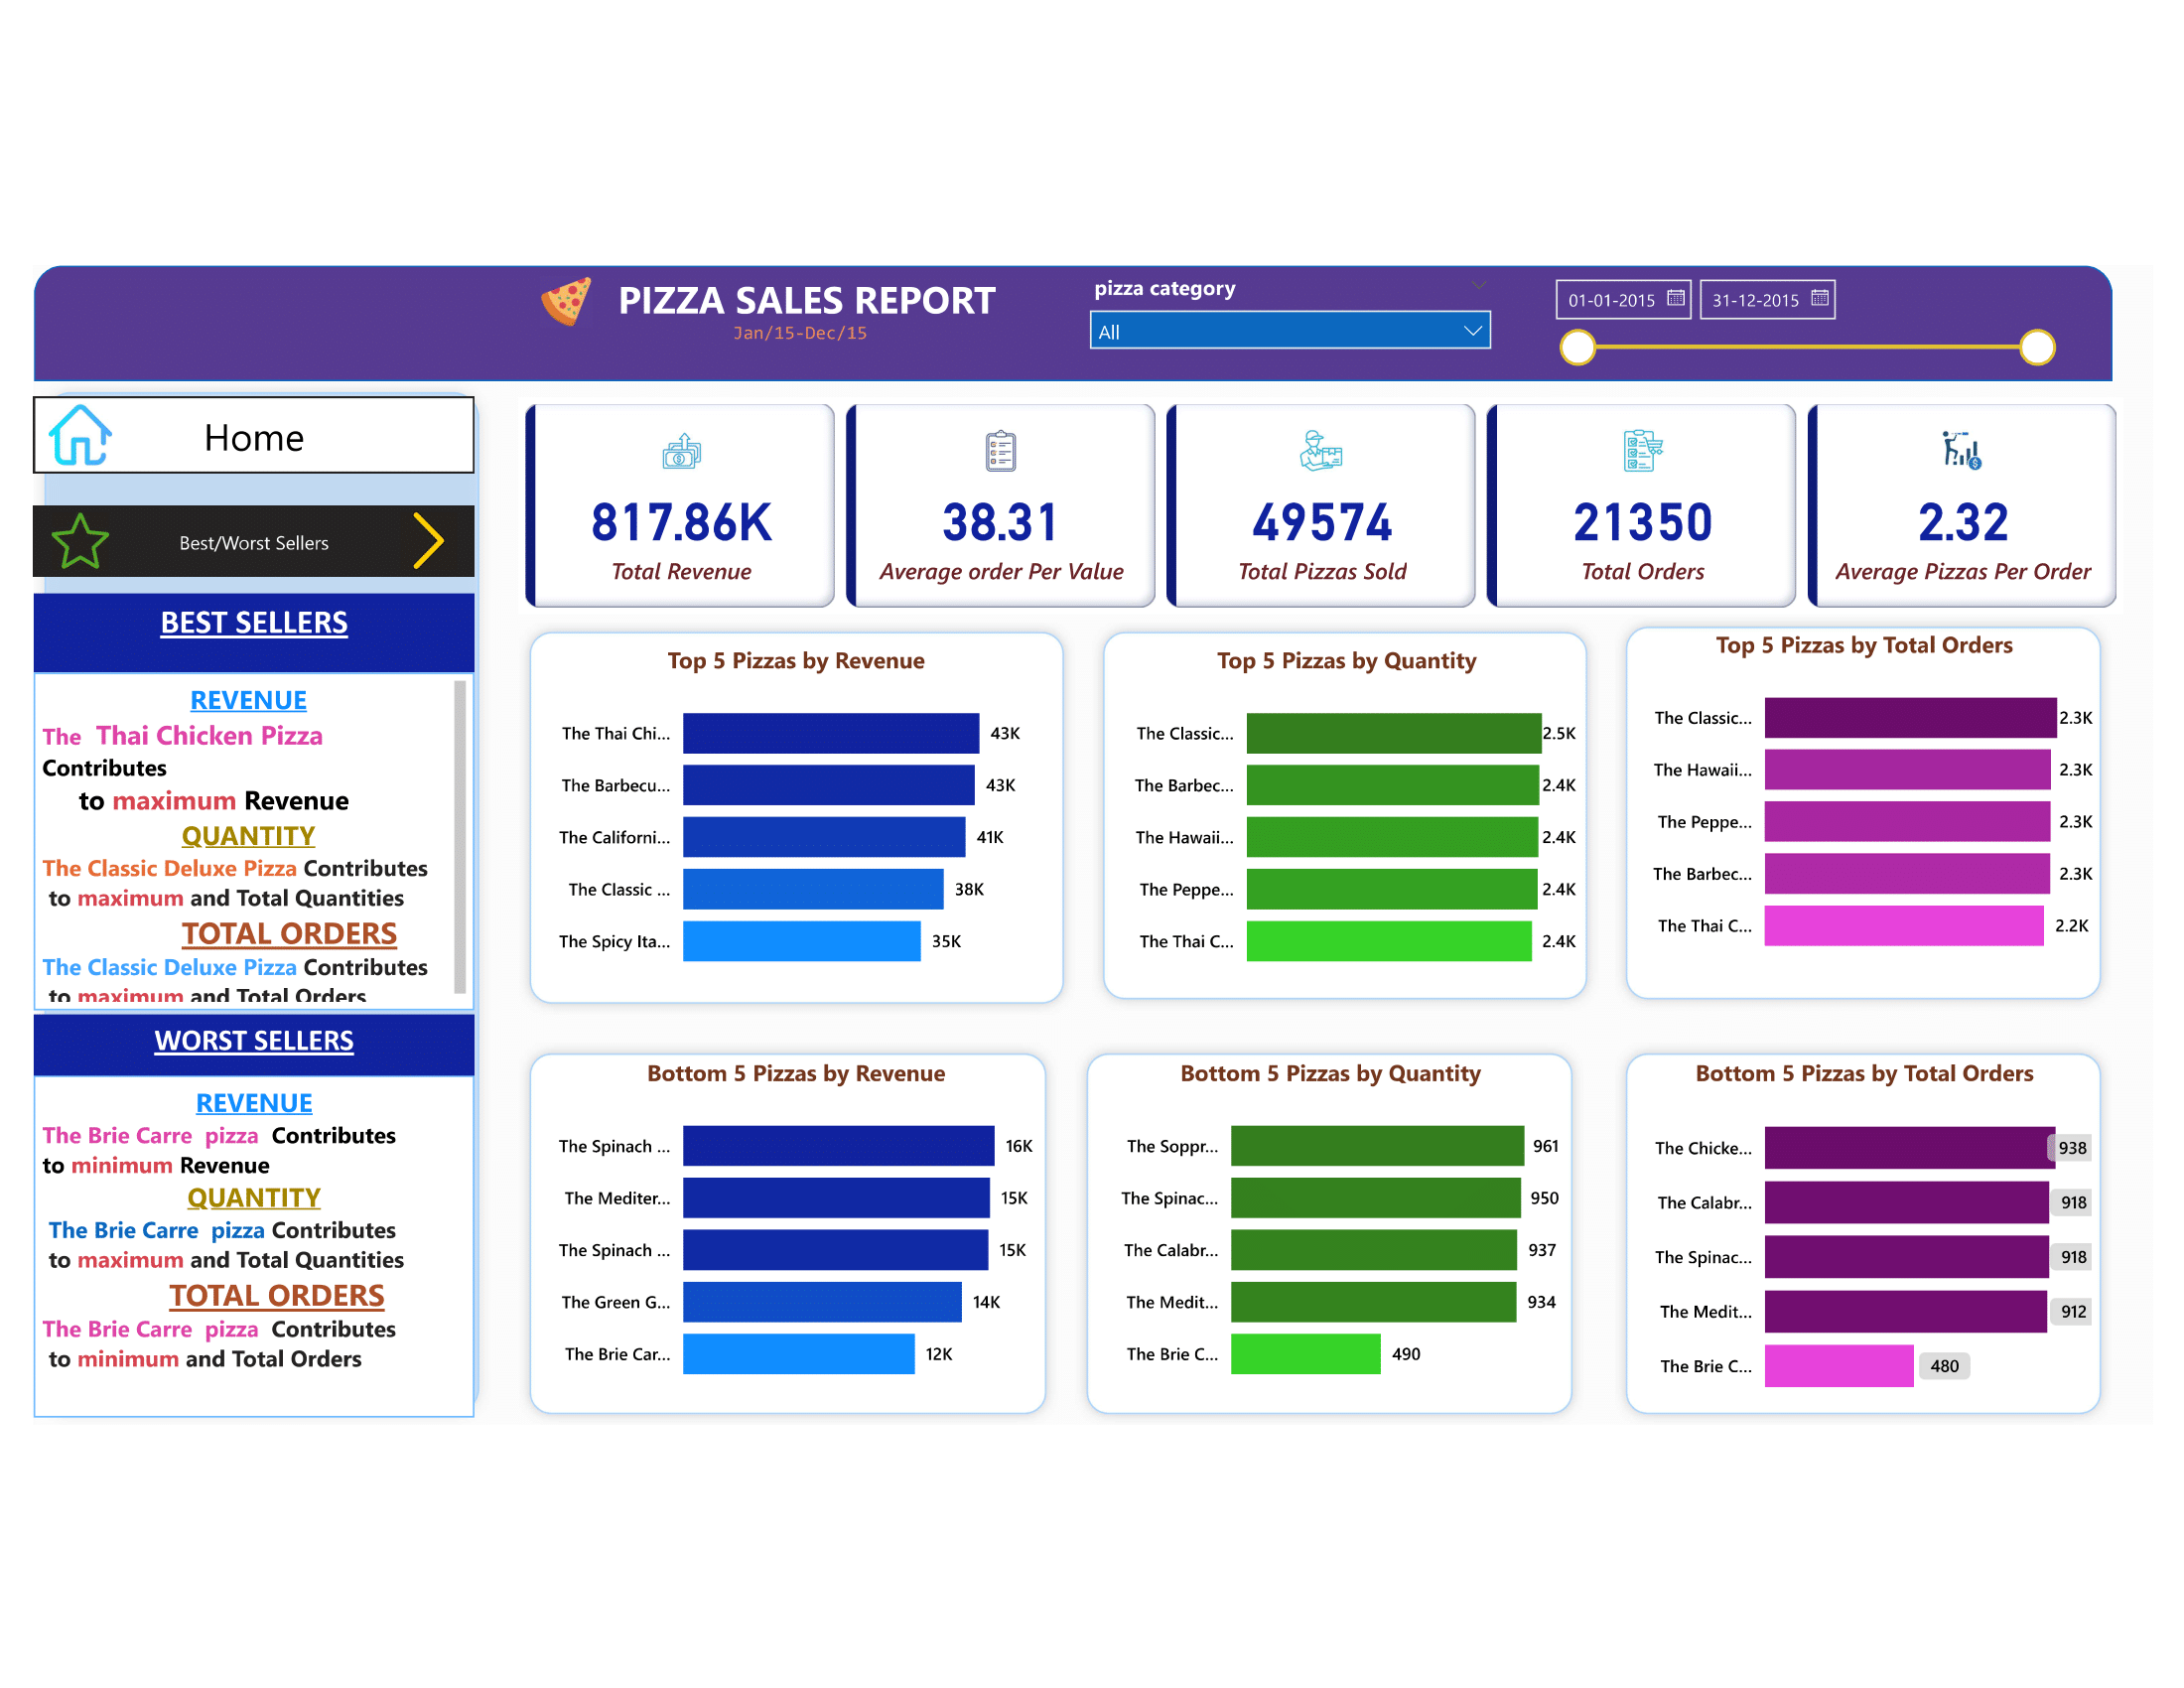

Layout of this report page (visuals, bound fields, positions):
{"tool":"powerbi","page":{"name":"Best/Worst Sellers ","canvas":[1500,820],"ordinal":1},"visuals":[{"type":"shape","box":[0,81.7,323.3,738.3],"z":0},{"type":"shape","box":[0,0,1471.7,81.7],"z":1000},{"type":"cardVisual","fields":{"Data":["public pizza_sales.Total Revenue","public pizza_sales.Average order Per Value","public pizza_sales.Total Pizzas Sold","public pizza_sales.Total Orders","public pizza_sales.Average Pizzas Per Order"]},"box":[343.3,93.3,1136.7,153.3],"z":2000},{"type":"textbox","box":[400,0,295,70],"z":3000},{"type":"textbox","box":[490,32.9,114.3,37.1],"z":4000},{"type":"image","box":[354.3,0,45.7,51.4],"z":5000},{"type":"shape","box":[343.3,251.7,393.3,278.3],"z":6000},{"type":"textbox","box":[0,231.7,311.7,56.7],"z":7000},{"type":"textbox","box":[0,573.3,311.7,241.7],"z":8000},{"type":"textbox","box":[0,530,311.7,43.3],"z":9000},{"type":"textbox","box":[0,288.3,311.7,238.3],"z":10000},{"type":"slicer","title":"Pizza Category","fields":{"Values":["public pizza_sales.pizza_category"]},"box":[738.3,0,303.3,81.7],"z":11000},{"type":"slicer","title":"Pizza Category","fields":{"Values":["public pizza_sales.order_date"]},"box":[1065,0,375,81.7],"z":12000},{"type":"shape","box":[750,251.7,358.3,275],"z":13000},{"type":"shape","box":[1120,248.3,351.7,278.3],"z":14000},{"type":"shape","box":[343.3,550,381.7,270],"z":15000},{"type":"shape","box":[738.3,550,358.3,270],"z":16000},{"type":"shape","box":[1120,550,351.7,270],"z":17000},{"type":"barChart","title":"Top  5 Pizzas by Revenue","fields":{"Category":["public pizza_sales.pizza_name"],"Y":["public pizza_sales.Total Revenue"]},"box":[355,268.3,370,245],"z":18000},{"type":"barChart","title":"Bottom  5 Pizzas by Revenue","fields":{"Category":["public pizza_sales.pizza_name"],"Y":["public pizza_sales.Total Revenue"]},"box":[355,560,370,245],"z":19000},{"type":"barChart","title":"Top  5 Pizzas by Quantity","fields":{"Category":["public pizza_sales.pizza_name"],"Y":["public pizza_sales.Total Pizzas Sold"]},"box":[763.3,268.3,333.3,245],"z":20000},{"type":"barChart","title":"Bottom  5 Pizzas by Quantity","fields":{"Category":["public pizza_sales.pizza_name"],"Y":["public pizza_sales.Total Pizzas Sold"]},"box":[751.7,560,333.3,245],"z":21000},{"type":"barChart","title":"Top  5 Pizzas by Total Orders","fields":{"Category":["public pizza_sales.pizza_name"],"Y":["public pizza_sales.Total Orders"]},"box":[1130,256.7,333.3,245],"z":22000},{"type":"barChart","title":"Bottom  5 Pizzas by Total Orders","fields":{"Category":["public pizza_sales.pizza_name"],"Y":["public pizza_sales.Total Orders"]},"box":[1130,560,333.3,255],"z":23000},{"type":"pageNavigator","box":[0,170,311.7,50],"z":24000},{"type":"pageNavigator","box":[0,93.3,311.7,53.3],"z":25000},{"type":"image","box":[0,93.3,65,53.3],"z":26000},{"type":"image","box":[0,170,65,50],"z":27000},{"type":"image","box":[248.3,170,63.3,50],"z":28000}]}

Visuals, with their boxes on the page's 1500x820 design canvas (x1, y1, x2, y2). These are canvas units, not pixel positions in the 2184x1688 screenshot, which may show the page scaled, cropped or inside an application window:
shape: left=0, top=82, right=323, bottom=820
shape: left=0, top=0, right=1472, bottom=82
cardVisual - public pizza_sales.Total Revenue x public pizza_sales.Average order Per Value: left=343, top=93, right=1480, bottom=247
textbox: left=400, top=0, right=695, bottom=70
textbox: left=490, top=33, right=604, bottom=70
image: left=354, top=0, right=400, bottom=51
shape: left=343, top=252, right=737, bottom=530
textbox: left=0, top=232, right=312, bottom=288
textbox: left=0, top=573, right=312, bottom=815
textbox: left=0, top=530, right=312, bottom=573
textbox: left=0, top=288, right=312, bottom=527
"Pizza Category" slicer: left=738, top=0, right=1042, bottom=82
"Pizza Category" slicer: left=1065, top=0, right=1440, bottom=82
shape: left=750, top=252, right=1108, bottom=527
shape: left=1120, top=248, right=1472, bottom=527
shape: left=343, top=550, right=725, bottom=820
shape: left=738, top=550, right=1097, bottom=820
shape: left=1120, top=550, right=1472, bottom=820
"Top  5 Pizzas by Revenue" barChart: left=355, top=268, right=725, bottom=513
"Bottom  5 Pizzas by Revenue" barChart: left=355, top=560, right=725, bottom=805
"Top  5 Pizzas by Quantity" barChart: left=763, top=268, right=1097, bottom=513
"Bottom  5 Pizzas by Quantity" barChart: left=752, top=560, right=1085, bottom=805
"Top  5 Pizzas by Total Orders" barChart: left=1130, top=257, right=1463, bottom=502
"Bottom  5 Pizzas by Total Orders" barChart: left=1130, top=560, right=1463, bottom=815
pageNavigator: left=0, top=170, right=312, bottom=220
pageNavigator: left=0, top=93, right=312, bottom=147
image: left=0, top=93, right=65, bottom=147
image: left=0, top=170, right=65, bottom=220
image: left=248, top=170, right=312, bottom=220
